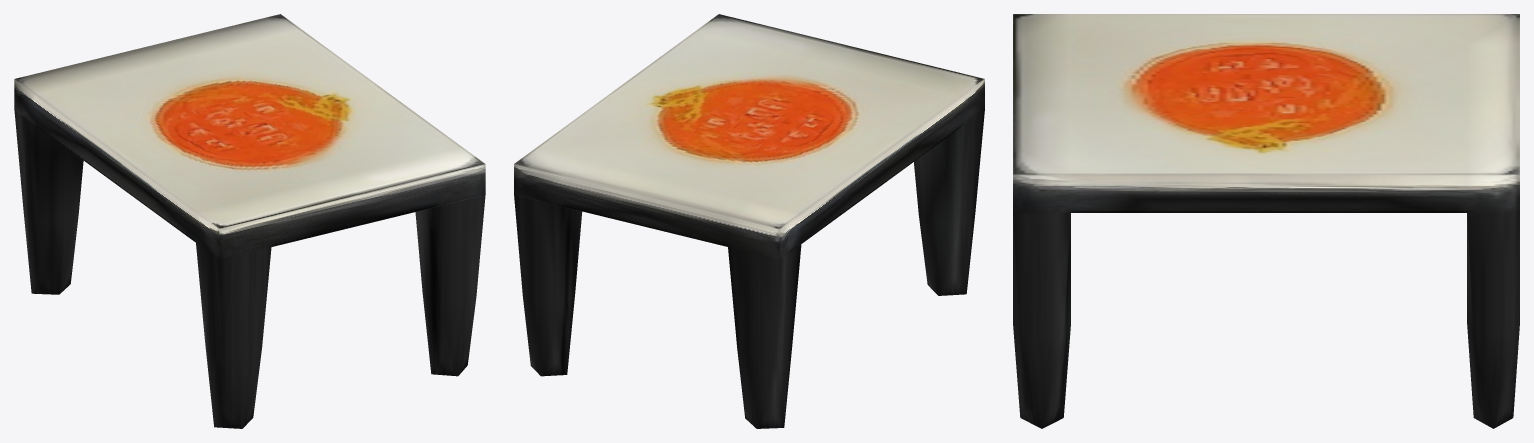
File: Mesa Corona.fbx
The picture shows the model from 3 angles, left to right: view 1: azimuth 30°, elevation 25°; view 2: azimuth 150°, elevation 25°; view 3: azimuth 270°, elevation 25°; orthographic projection. The views are drawn at different scales.
Visible parts, largest first — view 1: tripo_node_1f435a92; view 2: tripo_node_1f435a92; view 3: tripo_node_1f435a92.
Part boxes in pixels (box(x1,y1,x2,y2)): tripo_node_1f435a92: box(14, 14, 485, 428); tripo_node_1f435a92: box(514, 14, 984, 428); tripo_node_1f435a92: box(1013, 14, 1519, 428).
Bounding box in the file's own units: 75 × 56.14 × 100.
1 material, 1 textured.
